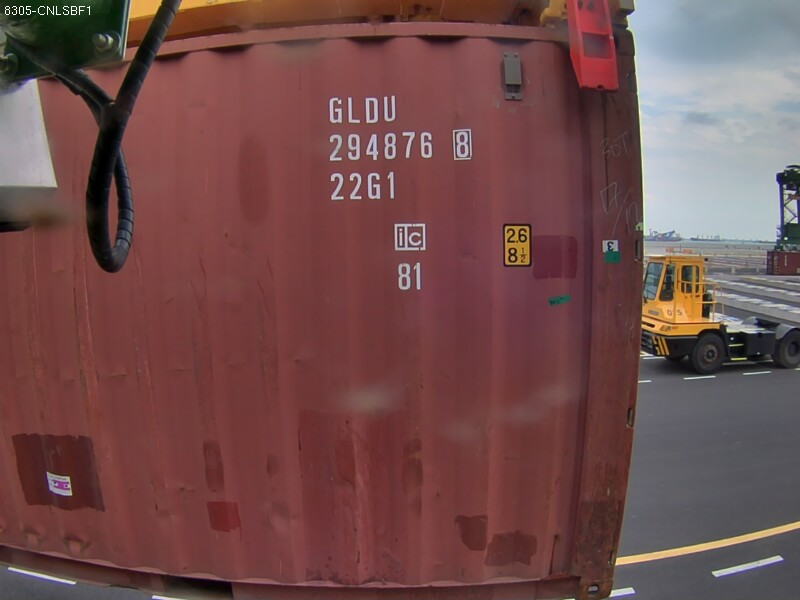container_no_door: (186, 11, 554, 599)
